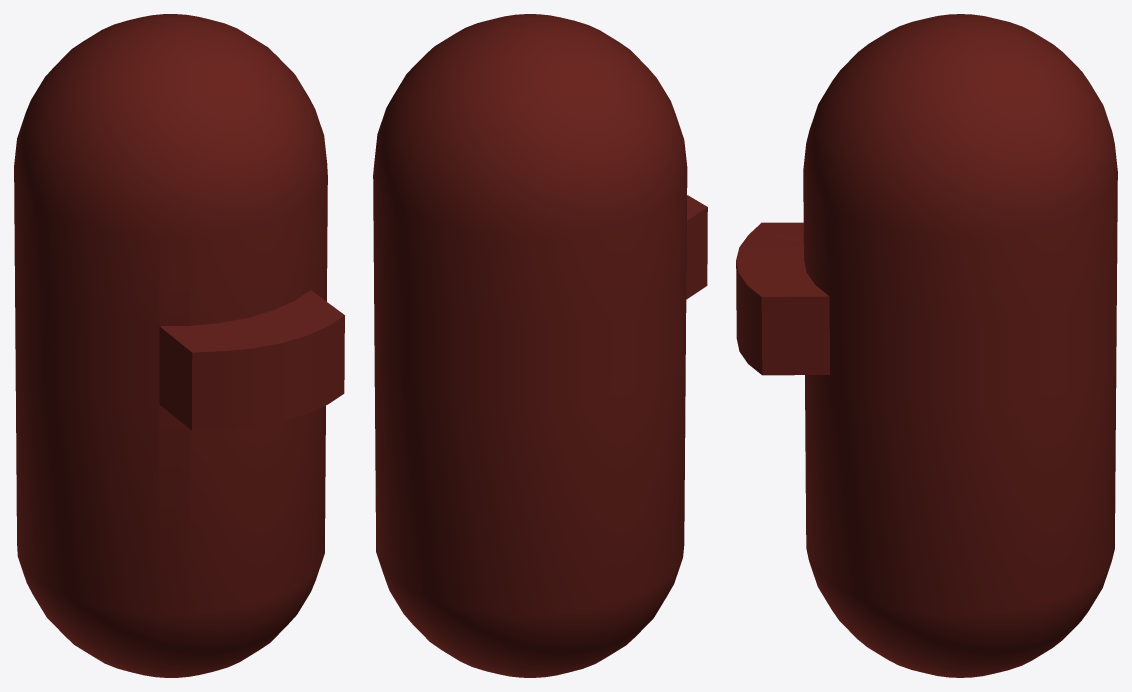
File: CharacterStandIn.FBX
3 views of the same model, side by side, from view 1: azimuth 30°, elevation 25°; view 2: azimuth 150°, elevation 25°; view 3: azimuth 270°, elevation 25° (orthographic).
Parts seen in each view (by area): view 1: Sphere001; view 2: Sphere001; view 3: Sphere001.
Boxes of the visible parts, x1=… form: Sphere001: x1=14, y1=14, x2=344, y2=677; Sphere001: x1=373, y1=14, x2=707, y2=677; Sphere001: x1=736, y1=14, x2=1117, y2=677.
Size of the model in its own units: 79.63 by 177 by 96.63.
